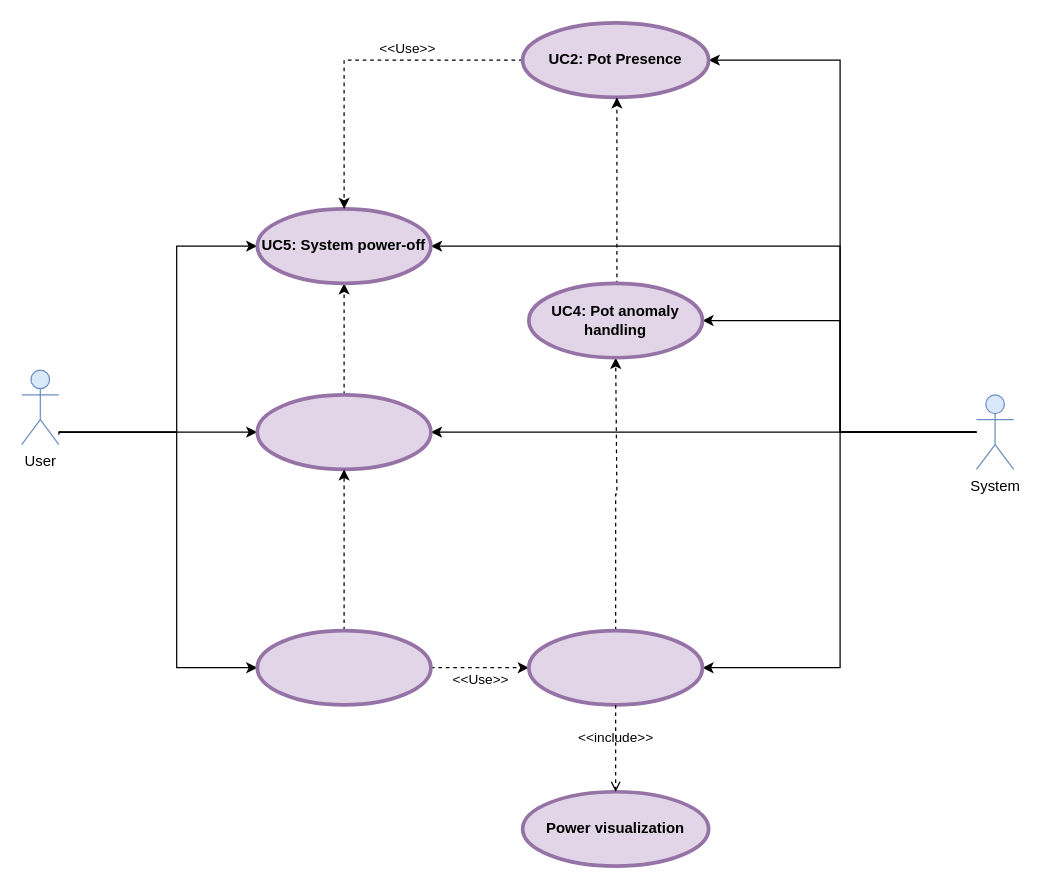
Image size: 1042x889. Some labels were removed from this diagram. Each missing label, with the centre of its shape:
"Power variation" belongs at point 343,667.
"UC1: System power-on" belongs at point 343,431.
"UC3: Power control" belongs at point 615,667.
